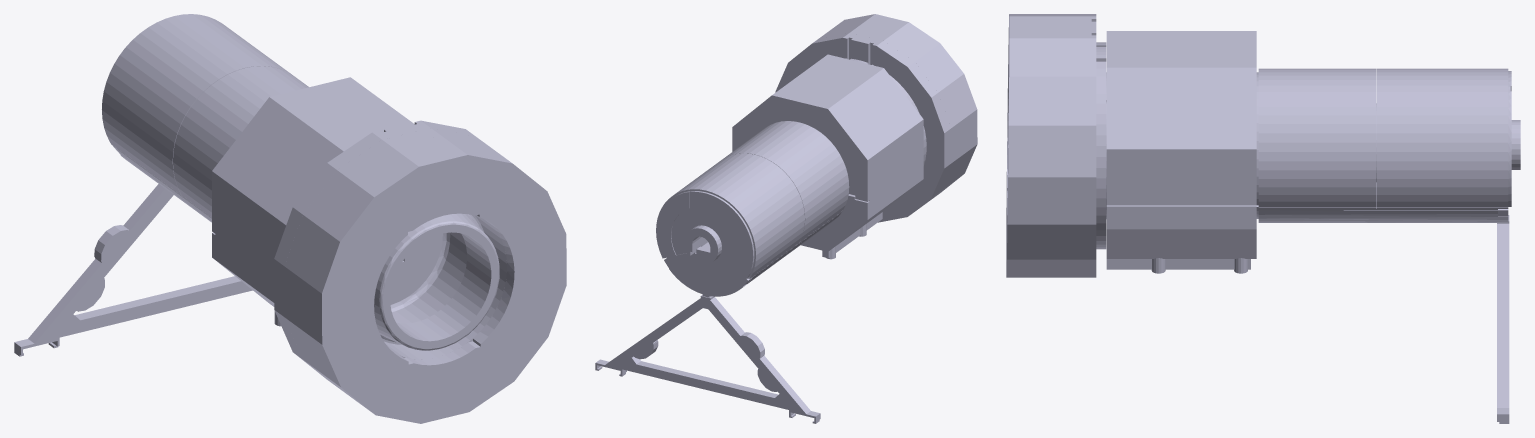
The model's file is Forward-Shielding-SideA.glb.
3 views of the same model, side by side, from view 1: azimuth 30°, elevation 25°; view 2: azimuth 150°, elevation 25°; view 3: azimuth 270°, elevation 25° (orthographic). The views are drawn at different scales.
Visible parts, largest first — view 1: null; view 2: null; view 3: null.
Part boxes in pixels (x1,y1,x2,y2): null: (14, 14, 566, 423); null: (595, 14, 977, 423); null: (1006, 14, 1520, 423).
Bounding box in the file's own units: 6.83 × 7.18 × 10.31.
